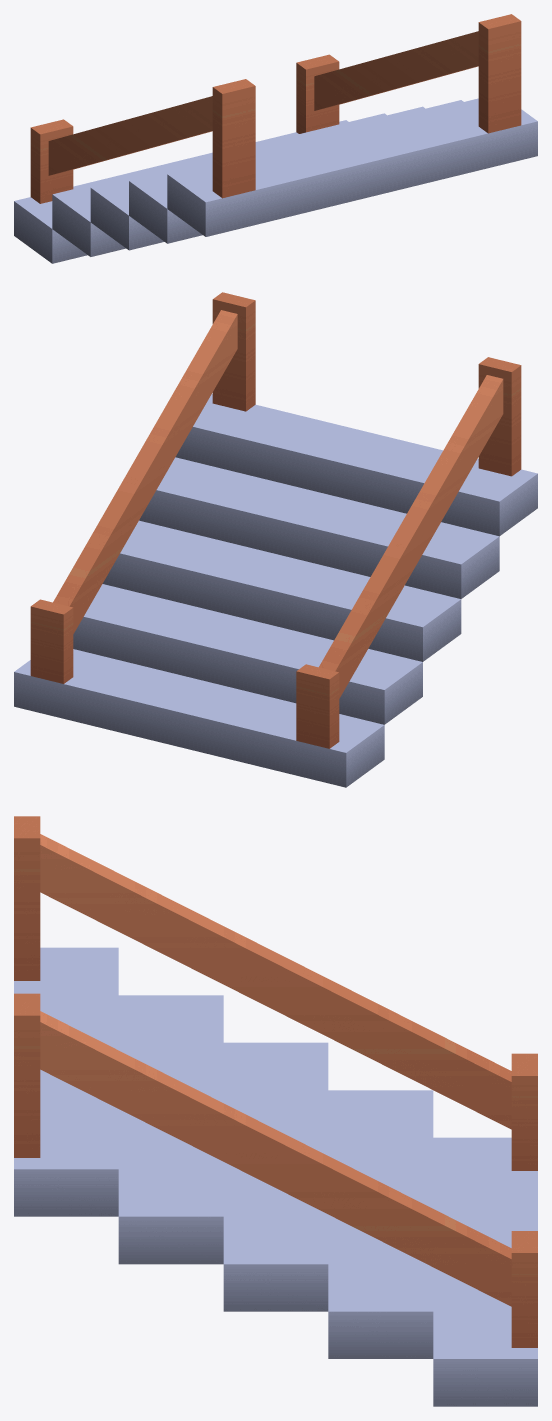
The model's file is path-steps.glb.
3 renders of one model, top to bottom at view 1: azimuth 30°, elevation 25°; view 2: azimuth 150°, elevation 25°; view 3: azimuth 270°, elevation 25°, orthographic. The views are drawn at different scales.
Visible parts, largest first — view 1: path-steps; view 2: path-steps; view 3: path-steps.
Part boxes in pixels (bbox=[...]): path-steps: bbox=[14, 14, 537, 263]; path-steps: bbox=[14, 292, 537, 787]; path-steps: bbox=[14, 816, 537, 1406].
Bounding box in the file's own units: 1 × 0.8 × 1.
1 material, 1 textured.
